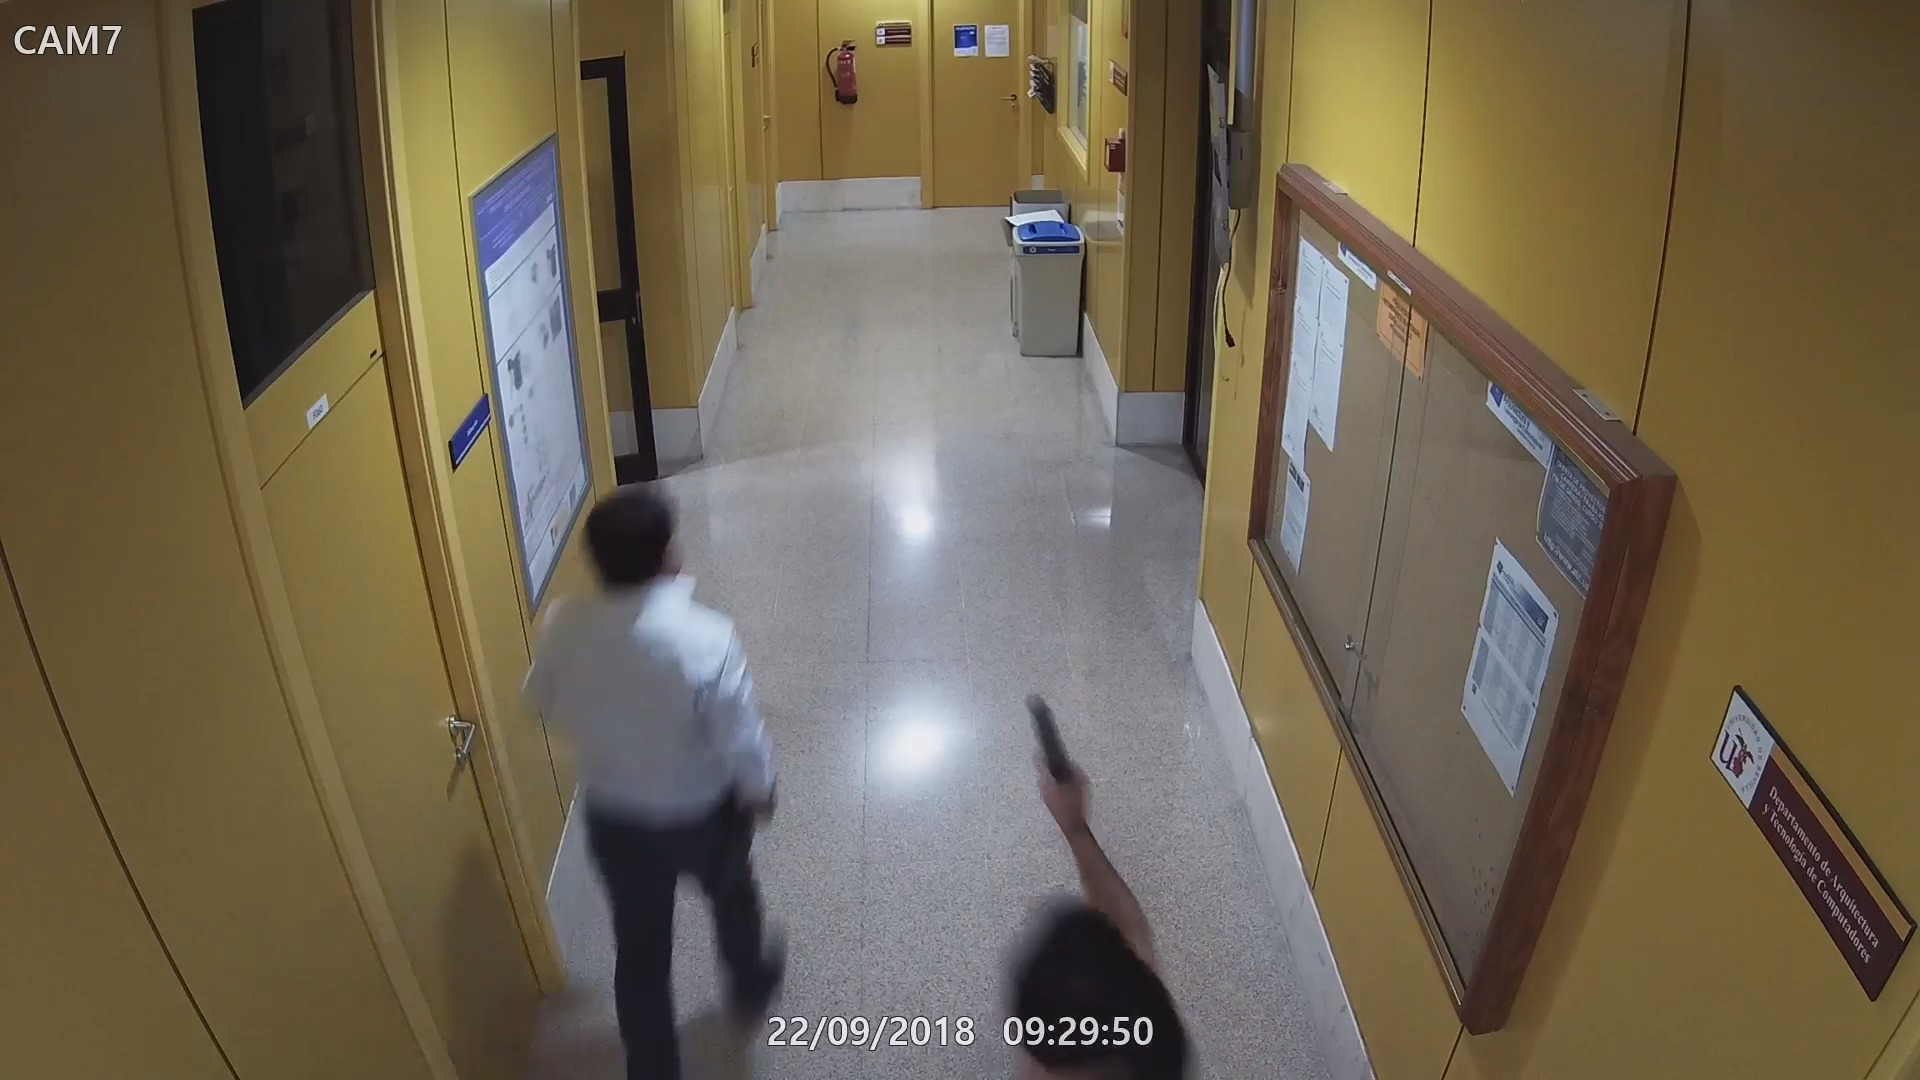pistol: (1023, 690, 1089, 829)
